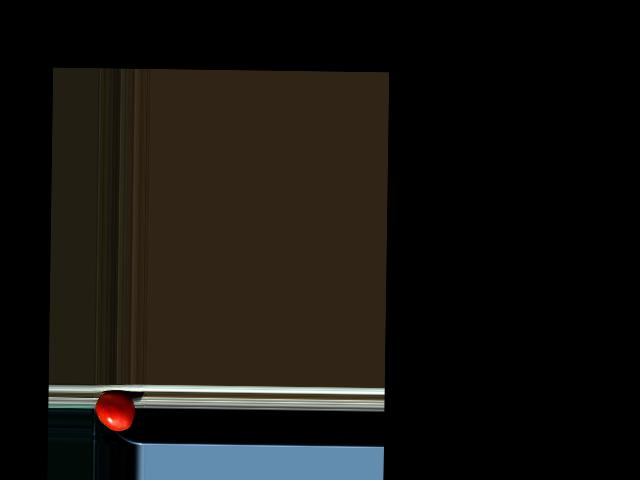tomato: (95, 392, 135, 431)
